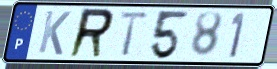1: (228, 12, 247, 60)
5: (148, 9, 192, 60)
8: (188, 11, 224, 61)
K: (36, 9, 73, 57)
R: (66, 7, 116, 60)
T: (117, 11, 151, 58)
